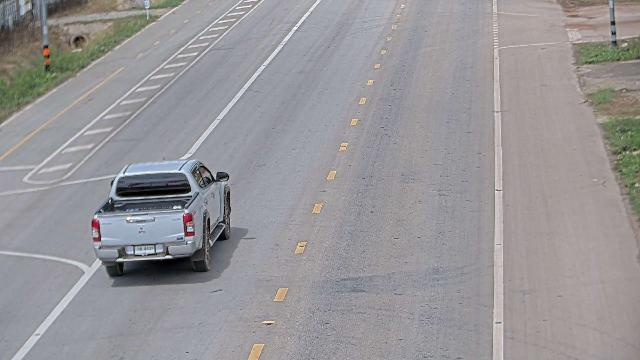pickup-truck: (90, 158, 232, 276)
